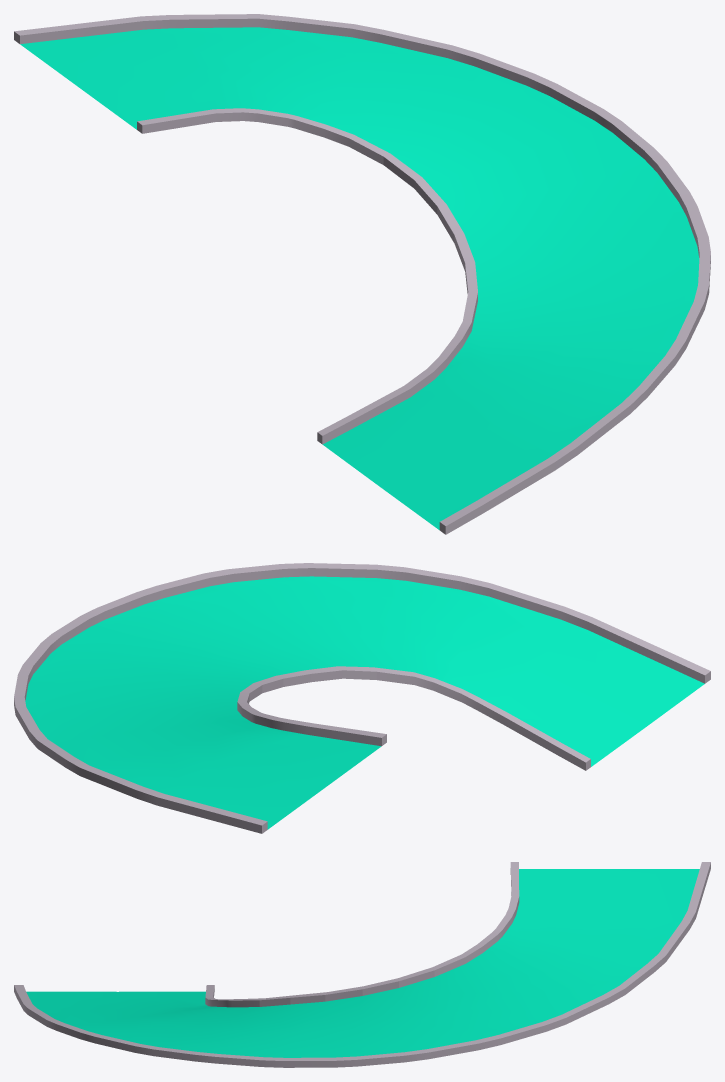
Rendered from LargeSlide_FirstRelease.fbx.
The picture shows the model from 3 angles, top to bottom: view 1: azimuth 30°, elevation 25°; view 2: azimuth 150°, elevation 25°; view 3: azimuth 270°, elevation 25°; orthographic projection. The views are drawn at different scales.
Visible parts, largest first — view 1: LargeSlide_low; view 2: LargeSlide_low; view 3: LargeSlide_low.
Boxes of the visible parts, <box> form: LargeSlide_low: <box>14,14,710,534</box>; LargeSlide_low: <box>14,563,710,833</box>; LargeSlide_low: <box>14,862,710,1067</box>.
Size of the model in its own units: 19.24 by 7.44 by 34.75.
1 material, 1 textured.
